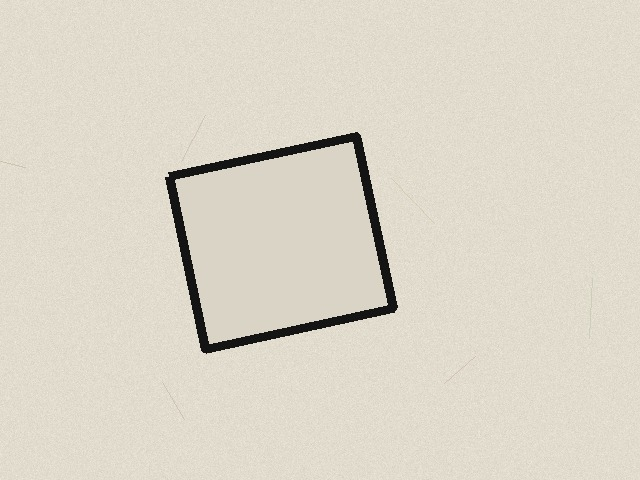parking_area: (169, 136, 393, 349)
